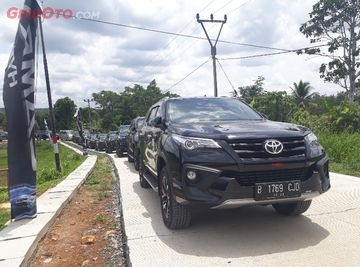plate: (256, 182, 300, 199)
